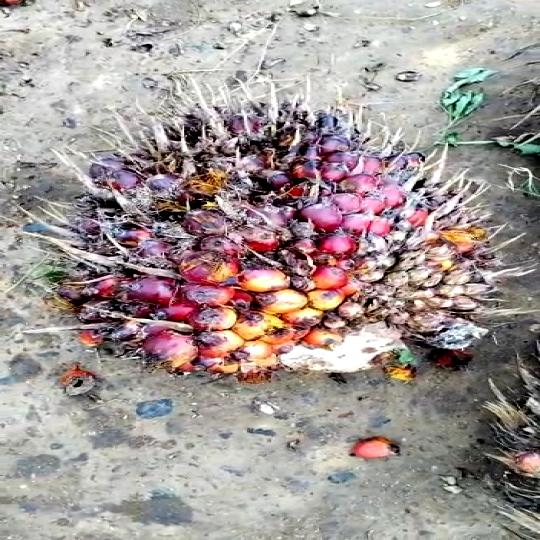masak: (53, 95, 475, 410)
